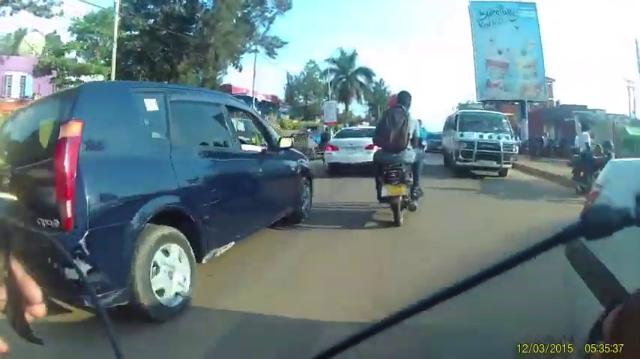car: (0, 79, 315, 322), (323, 126, 380, 175)
motorcycle: (372, 105, 429, 232)
van: (441, 97, 517, 179)
